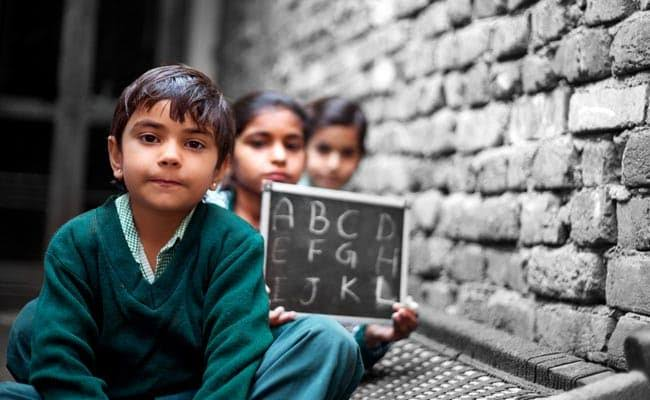student: (102, 74, 240, 208), (230, 87, 308, 195), (299, 92, 373, 194)
